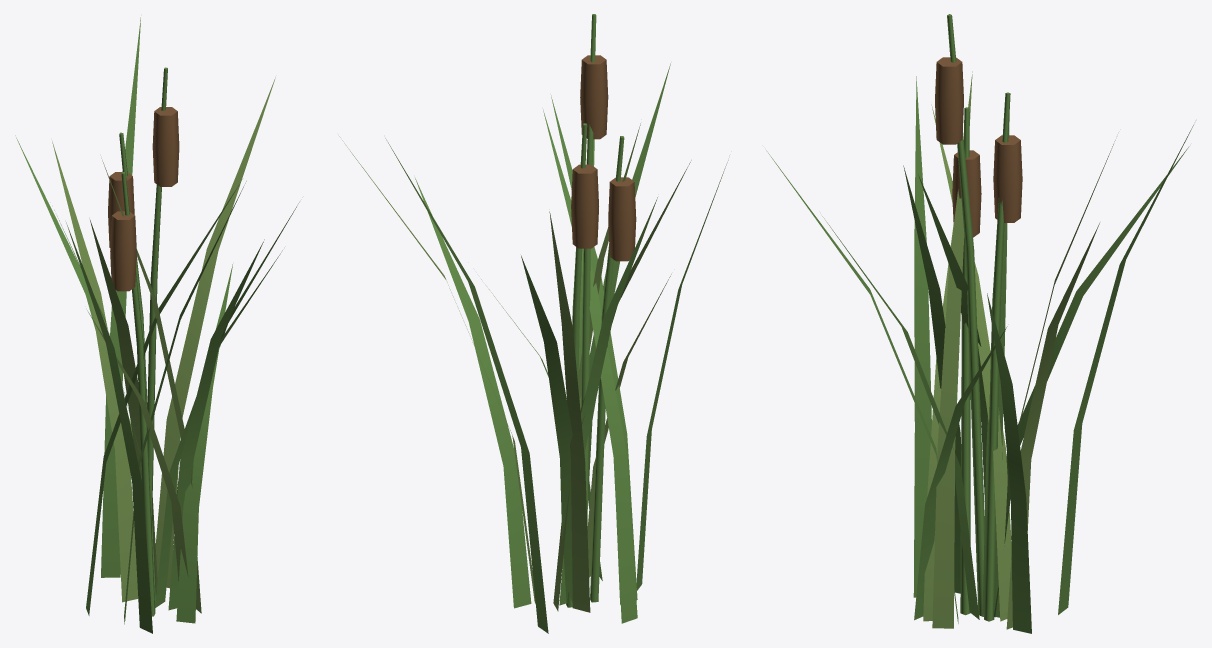
File: cattails_1.glb
The picture shows the model from 3 angles, left to right: view 1: azimuth 30°, elevation 25°; view 2: azimuth 150°, elevation 25°; view 3: azimuth 270°, elevation 25°; orthographic projection. The views are drawn at different scales.
Parts seen in each view (by area): view 1: cattails_1; view 2: cattails_1; view 3: cattails_1.
Part boxes in pixels (<box>): cattails_1: <box>15,17,299,633</box>; cattails_1: <box>339,14,728,633</box>; cattails_1: <box>766,14,1193,633</box>.
Size of the model in its own units: 0.8691 by 1.54 by 1.02.
